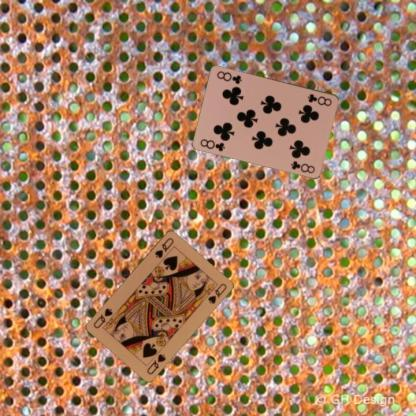8c: (305, 91, 333, 107), (198, 136, 226, 152)
Qs: (144, 350, 167, 376), (152, 235, 175, 259)
